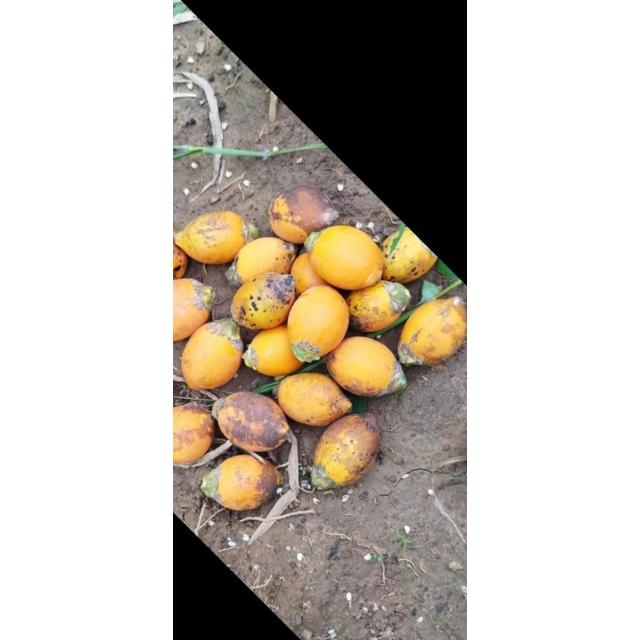good: (310, 414, 382, 488), (325, 337, 405, 398), (286, 286, 350, 360), (310, 226, 384, 290), (200, 454, 284, 510), (399, 298, 467, 366), (180, 318, 243, 390), (216, 392, 290, 452), (276, 373, 352, 427), (268, 185, 339, 242), (174, 212, 250, 264), (230, 273, 296, 331), (345, 280, 411, 334), (378, 226, 436, 284), (243, 326, 304, 376), (230, 238, 296, 284), (173, 279, 215, 343), (174, 404, 216, 464), (291, 252, 333, 296), (174, 237, 188, 280), (450, 296, 466, 326), (173, 230, 179, 244)
